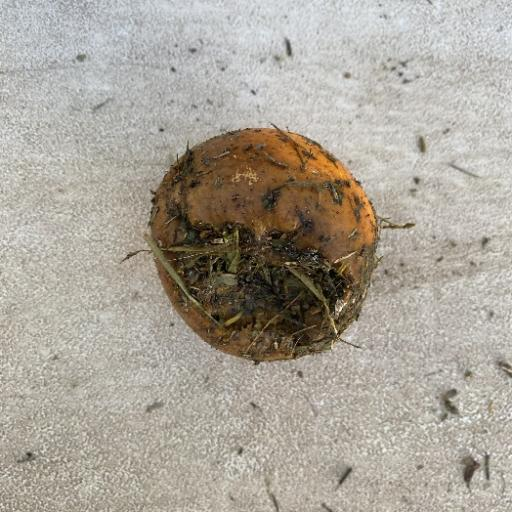Waste: (138, 122, 388, 364)
